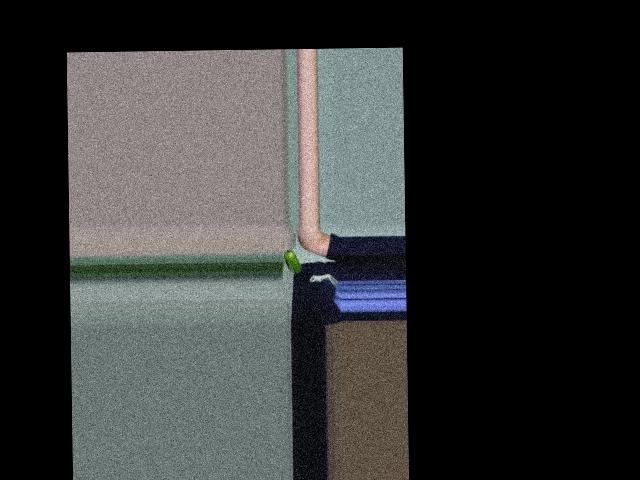cucumber: (283, 249, 301, 273)
